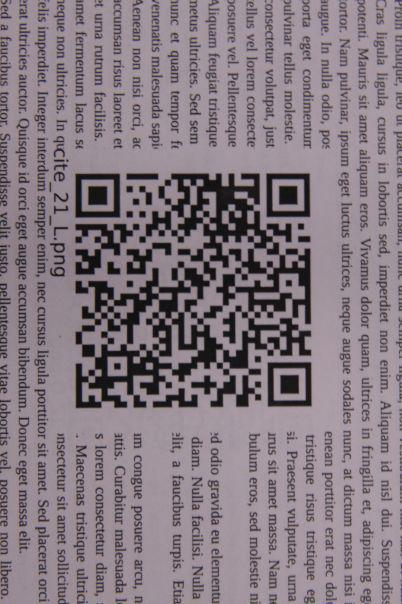Finder pattern: (69, 170, 126, 222), (261, 169, 316, 222), (264, 357, 316, 411)
